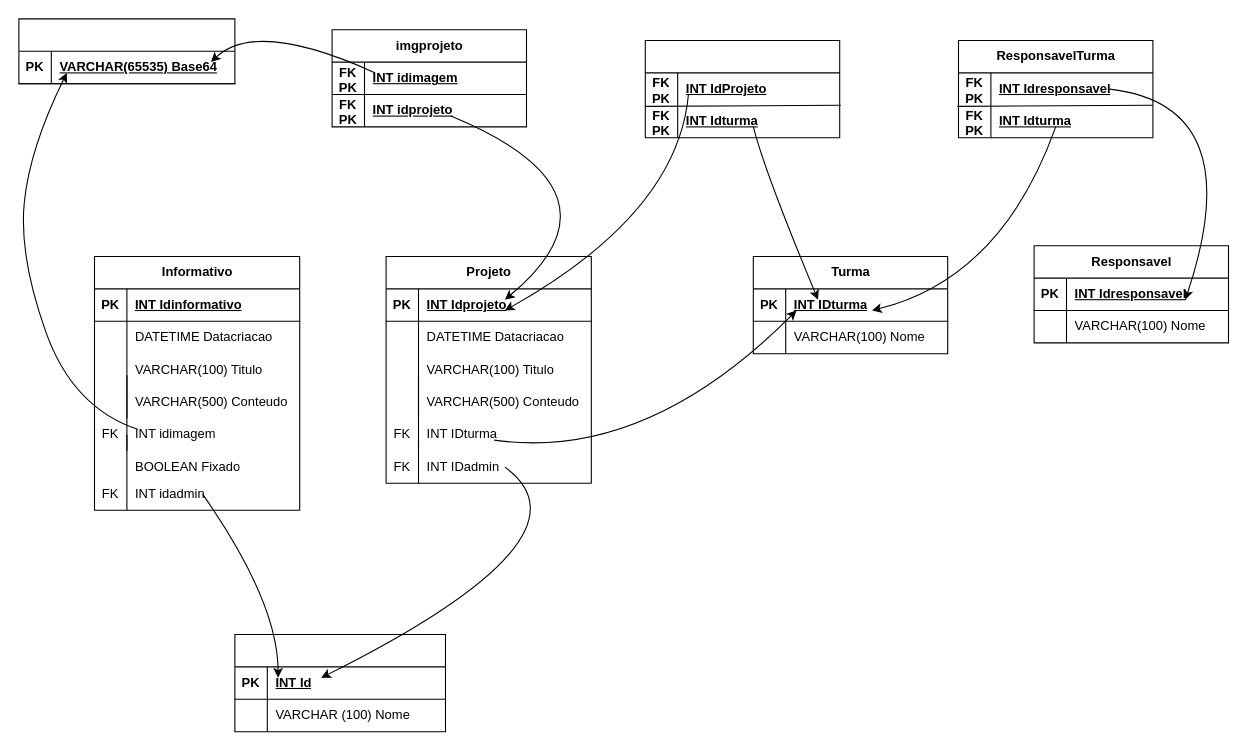
Image size: 1247x751. Some labels were removed from this diagram. Here are the shapes that lost their labels. From the top down, the box of each, then its label:
(18, 18, 235, 84): Imagem
(644, 39, 840, 138): ProjetoTurma
(234, 633, 446, 732): Admin
